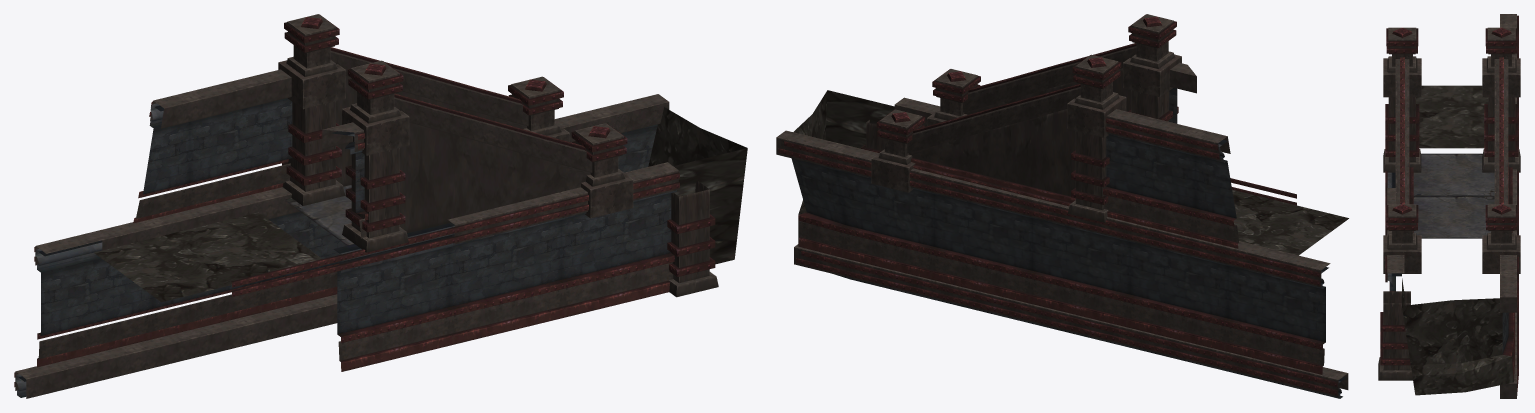
File: mesh_tower_03.FBX
3 views of the same model, side by side, from view 1: azimuth 30°, elevation 25°; view 2: azimuth 150°, elevation 25°; view 3: azimuth 270°, elevation 25° (orthographic). The views are drawn at different scales.
Parts seen in each view (by area): view 1: mesh_tower_03; view 2: mesh_tower_03; view 3: mesh_tower_03.
Part boxes in pixels (bbox=[...]): mesh_tower_03: bbox=[14, 14, 747, 398]; mesh_tower_03: bbox=[776, 14, 1348, 398]; mesh_tower_03: bbox=[1378, 14, 1520, 398].
Size of the model in its own units: 23.51 by 10.59 by 5.65.
